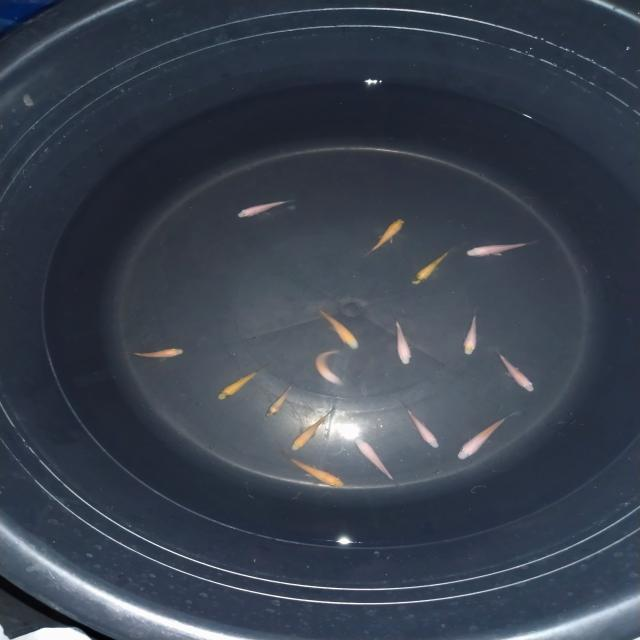nila: (456, 409, 518, 460), (279, 451, 347, 491), (352, 436, 402, 486), (214, 359, 268, 401), (315, 306, 362, 353), (288, 407, 337, 452), (396, 400, 440, 450), (409, 242, 456, 287), (492, 348, 536, 392), (362, 217, 409, 256), (464, 235, 540, 259), (235, 194, 298, 220), (314, 344, 344, 390), (264, 378, 296, 420), (390, 311, 412, 367), (461, 308, 484, 357), (122, 344, 187, 360)
